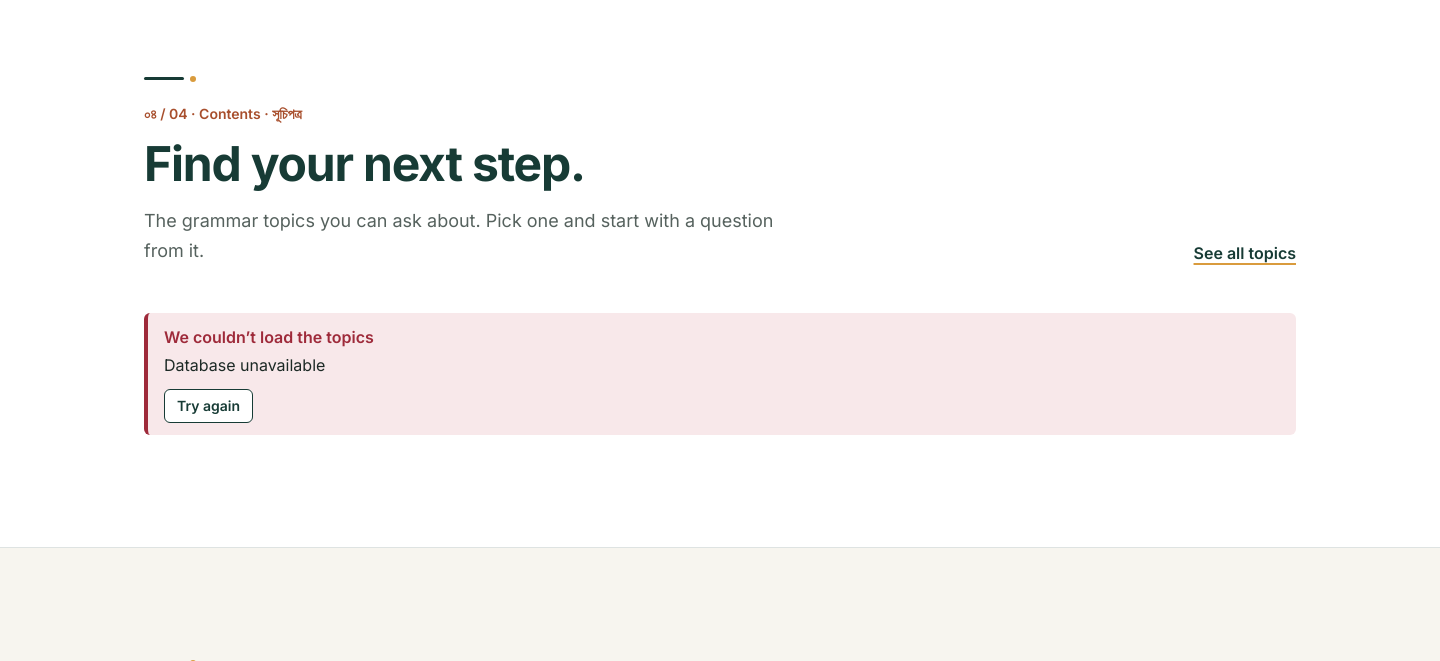
Test case: Topic index › a failed load can be retried
(page scrolled)
Click the button "Try again" at (209, 406), box [164,389,253,423]
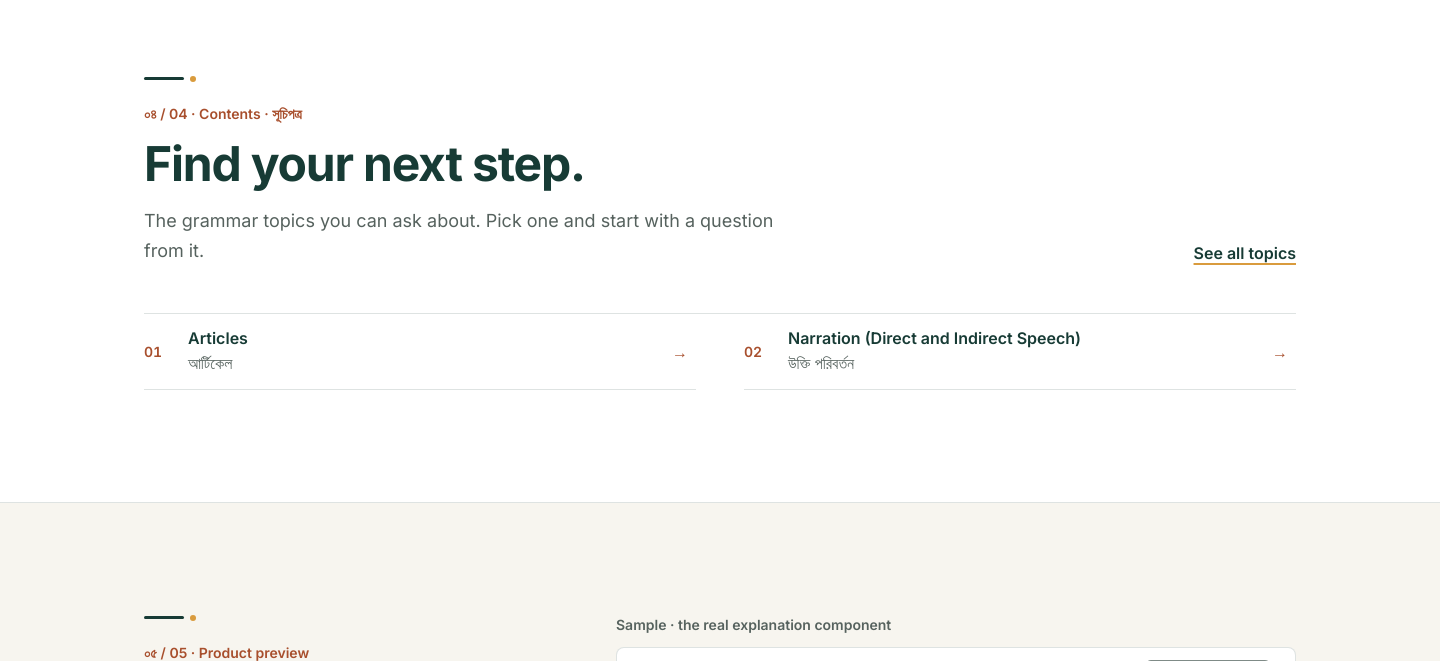
Now the link "01 Articles আর্টিকেল →" is shown, box [144,328,688,373]
